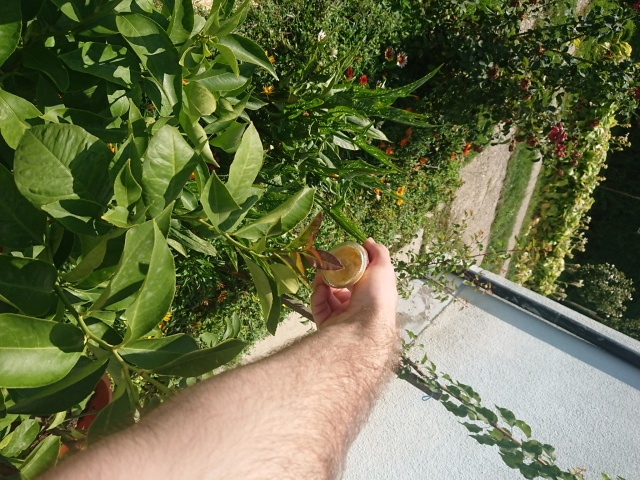Kotanyi Curry Spices Mix 70g: (319, 239, 370, 290)
